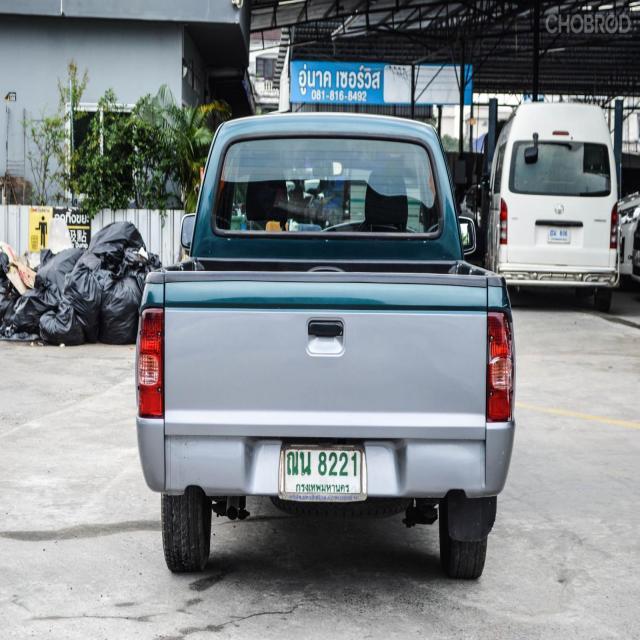license_plate: (276, 434, 368, 504)
